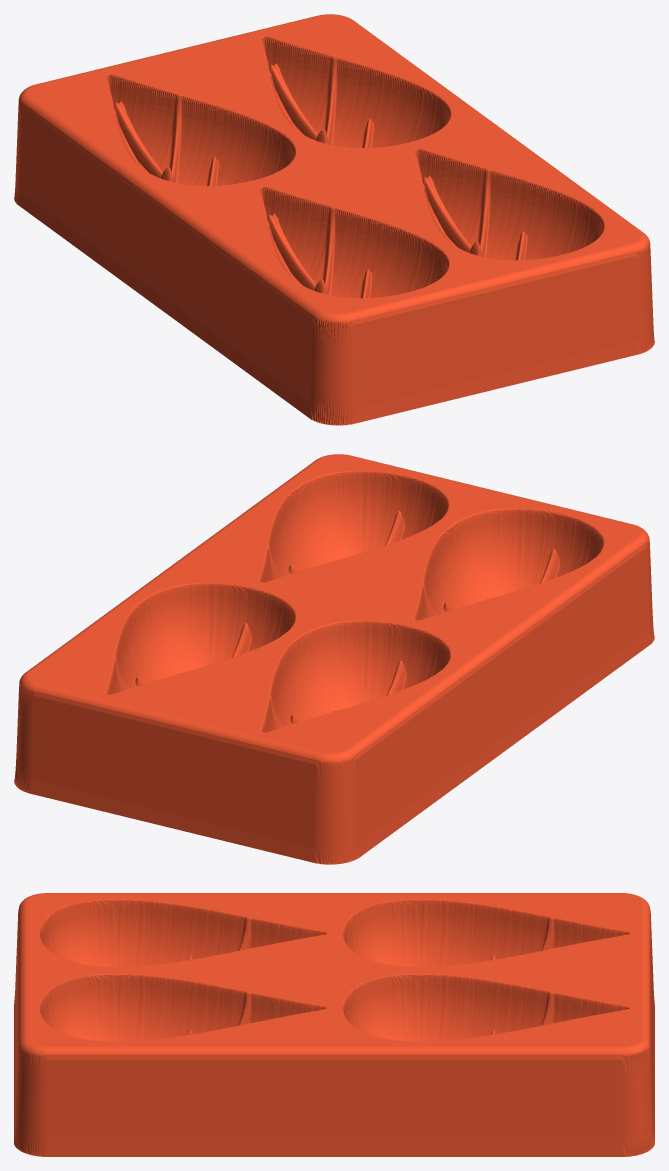
Rendered from mold.glb.
The picture shows the model from 3 angles, top to bottom: view 1: azimuth 30°, elevation 25°; view 2: azimuth 150°, elevation 25°; view 3: azimuth 270°, elevation 25°; orthographic projection.
Parts seen in each view (by area): view 1: geometry_0; view 2: geometry_0; view 3: geometry_0.
Part boxes in pixels (x1,y1,x2,y2): geometry_0: [14, 14, 654, 425]; geometry_0: [14, 454, 654, 864]; geometry_0: [14, 893, 654, 1156].
Size of the model in its own units: 0.1044 by 0.031 by 0.1721.
